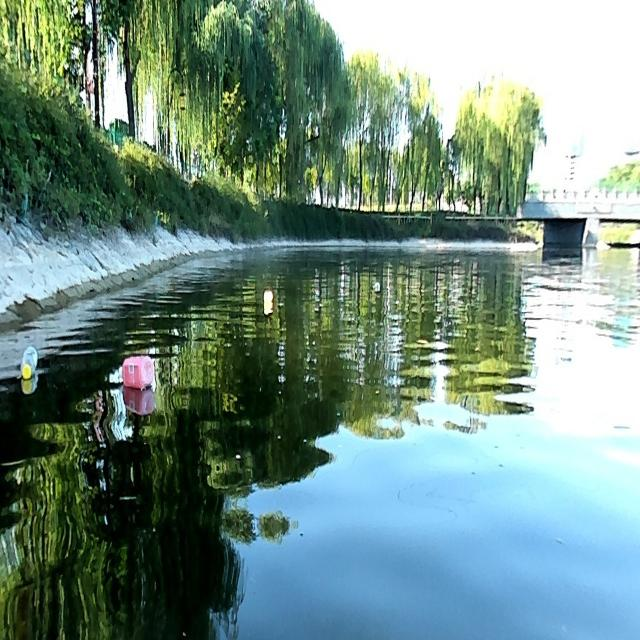bottle: (116, 350, 154, 387), (18, 340, 38, 381), (261, 285, 273, 303)
